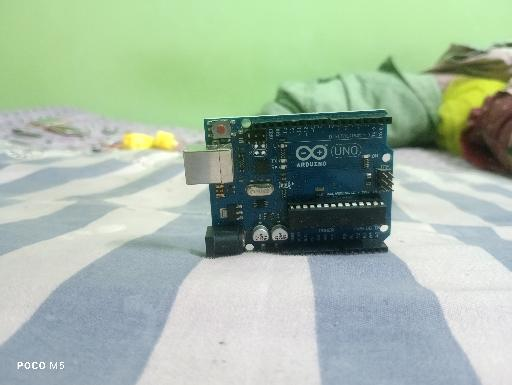Arduino: (182, 108, 394, 259)
